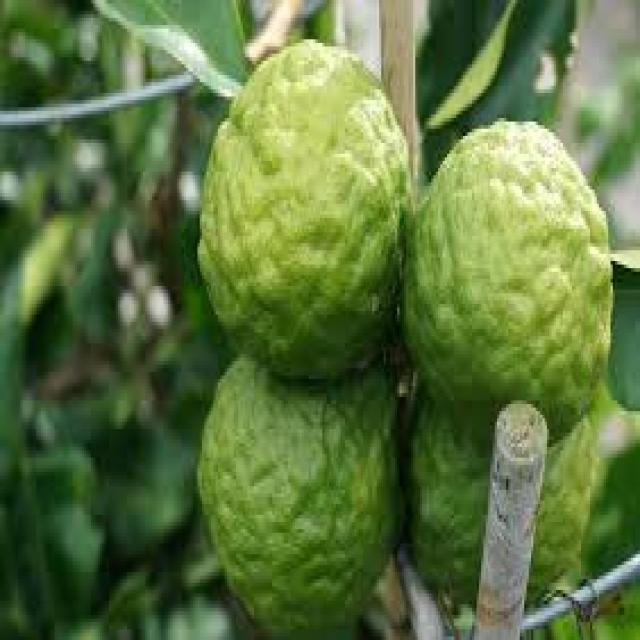Chuc: (195, 36, 411, 379), (399, 114, 613, 440), (195, 350, 402, 636), (403, 386, 594, 608)
